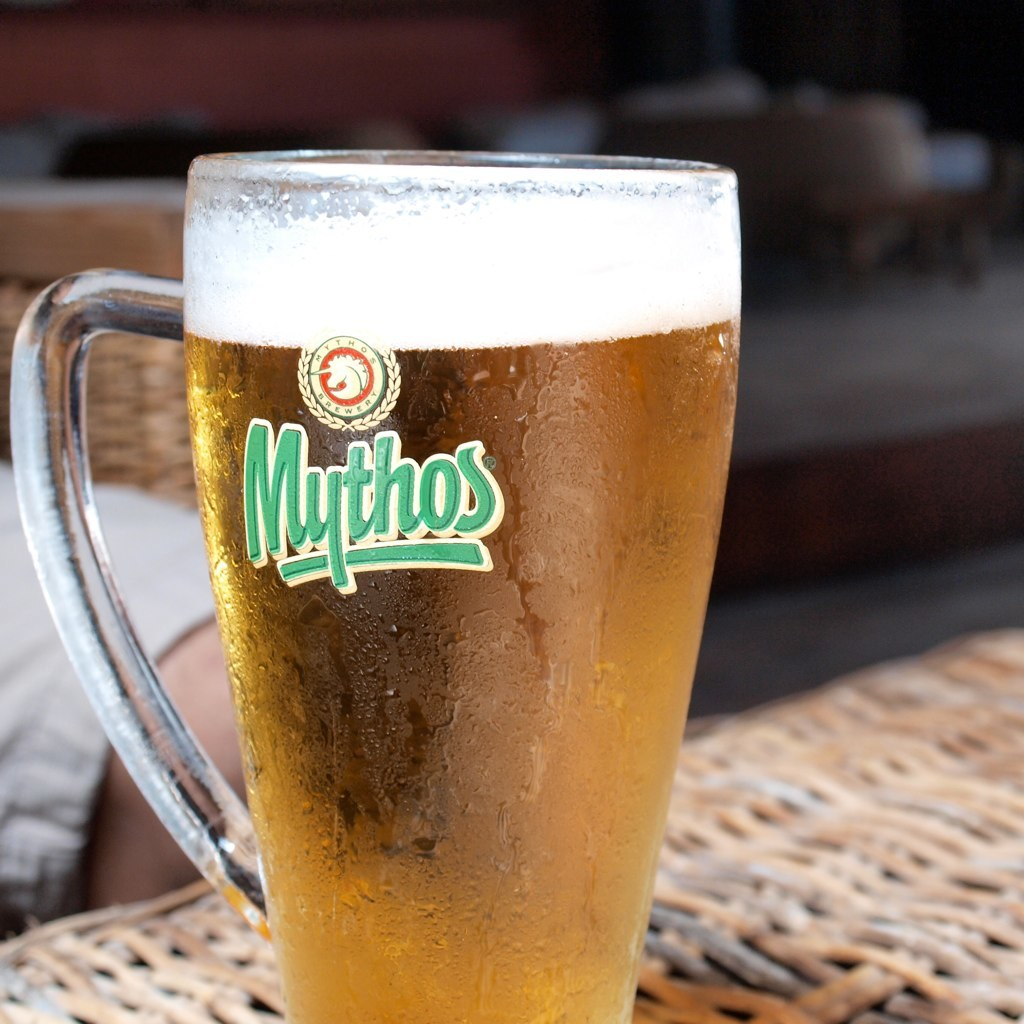Beer: (9, 149, 741, 1023)
